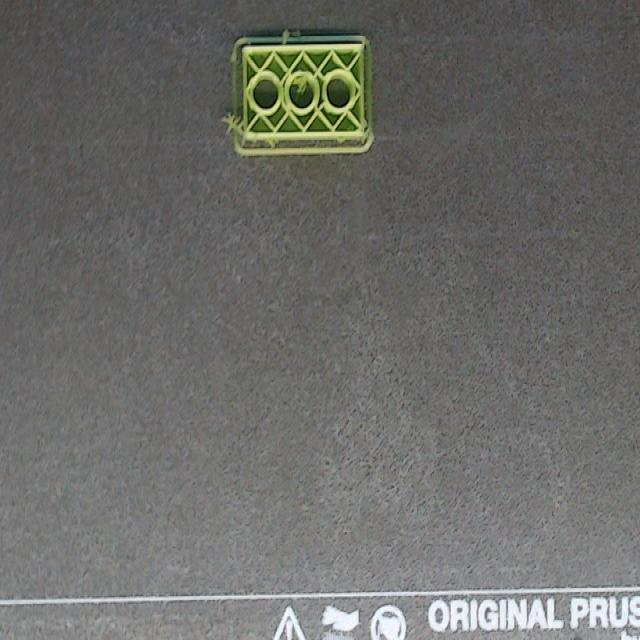mistake: (288, 75, 319, 119), (220, 111, 238, 136), (282, 28, 305, 41)
